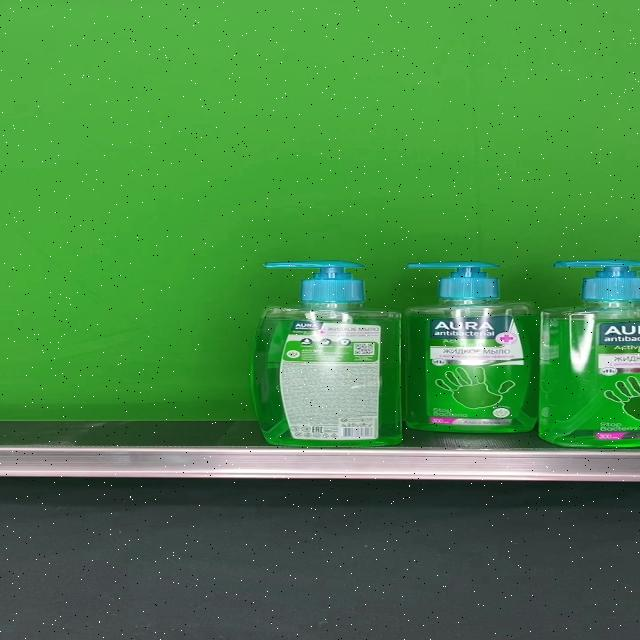Bottle: (252, 261, 402, 448), (404, 260, 540, 432)
Cap: (264, 261, 364, 305), (407, 260, 500, 300)
